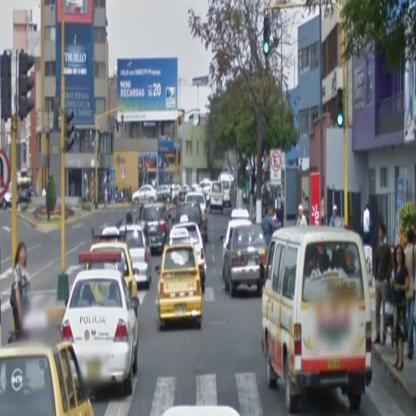Peaton: (372, 226, 393, 347)
Vehiculo: (261, 224, 373, 415), (62, 270, 140, 397), (156, 226, 205, 331), (222, 224, 269, 298)
